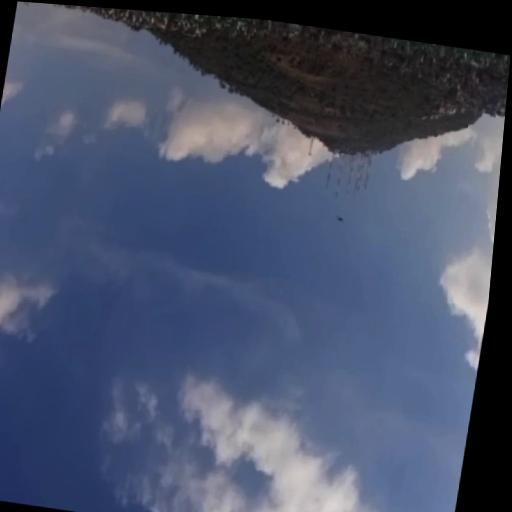drones: (334, 211, 349, 227)
